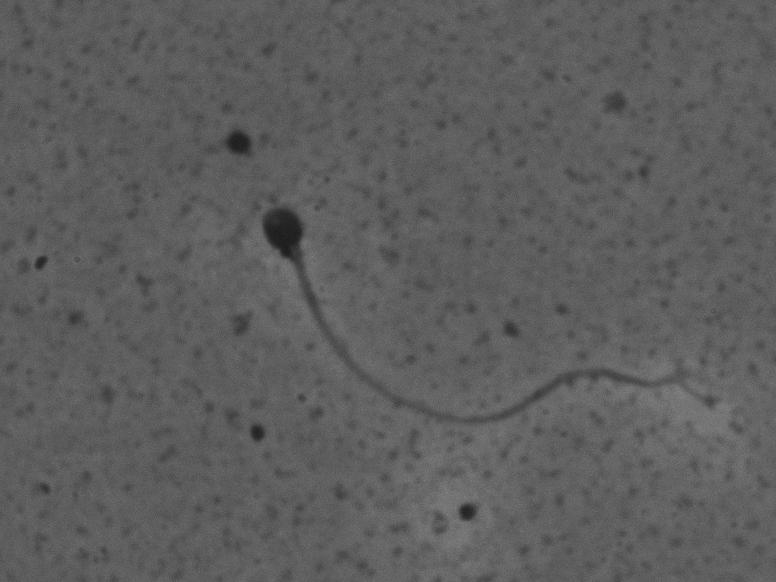Abnormal: (242, 190, 706, 436)
